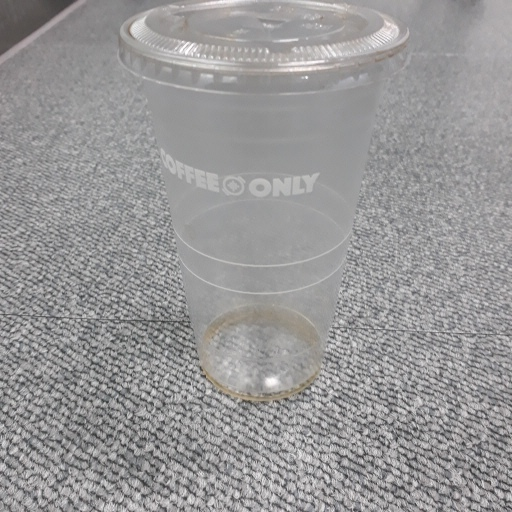Plastic_2: (111, 1, 410, 403)
